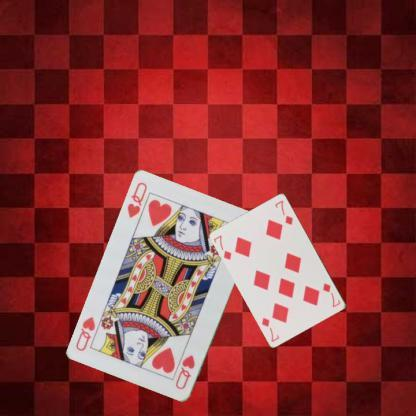7d: (211, 232, 233, 262), (320, 280, 342, 309)
Qh: (124, 180, 148, 220), (173, 352, 196, 392)
